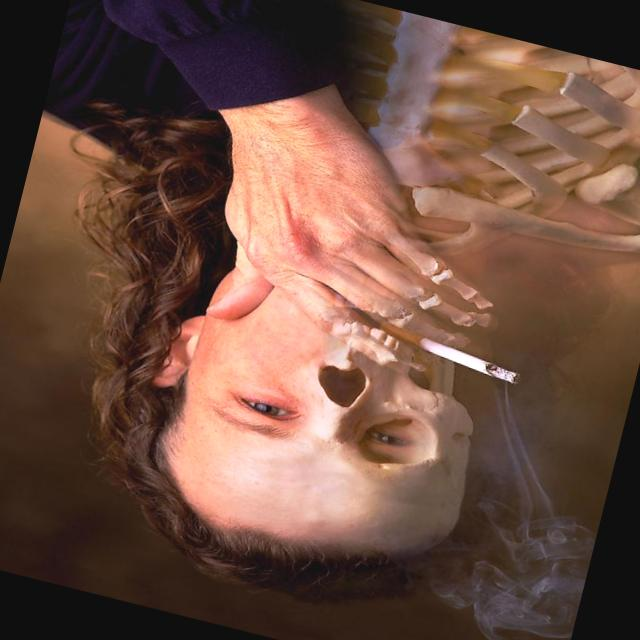cigarette: (378, 323, 521, 382)
